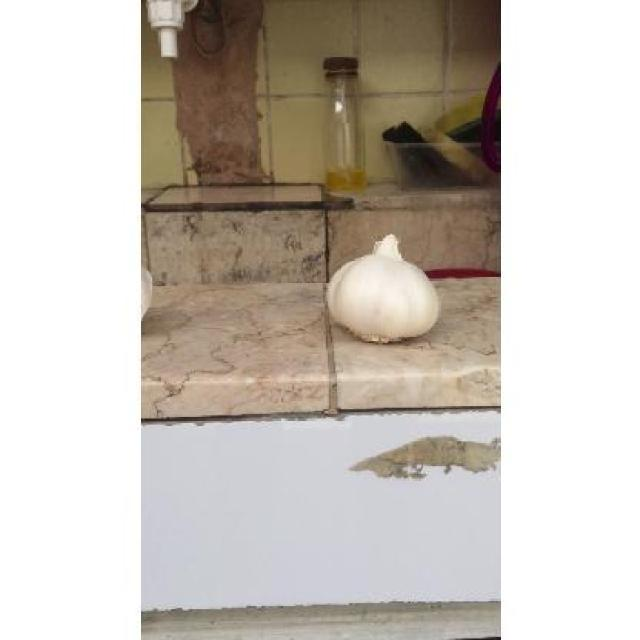garlic: (326, 234, 440, 342)
